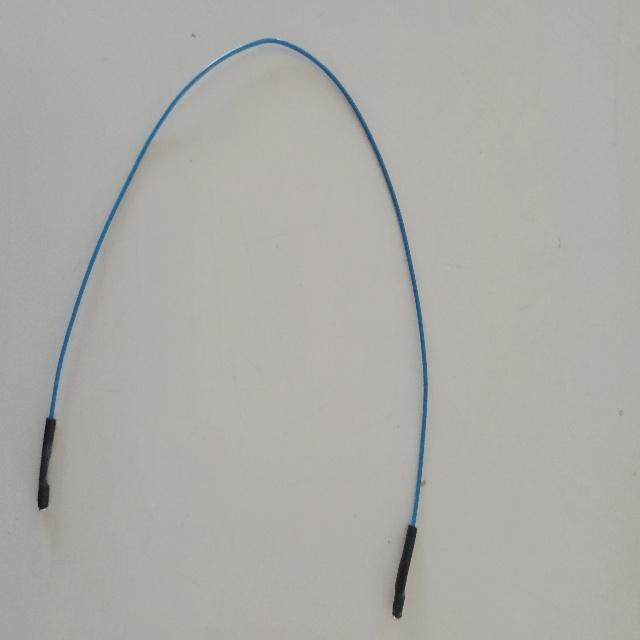BNC Cables Both Clips: (21, 29, 438, 634)
